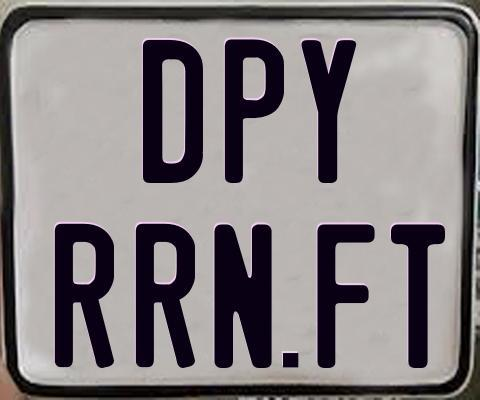D: (141, 39, 203, 188)
F: (317, 222, 380, 370)
N: (213, 221, 273, 367)
P: (225, 39, 286, 185)
R: (134, 224, 198, 369), (52, 222, 114, 371)
T: (389, 223, 445, 370)
Y: (299, 38, 360, 186)
